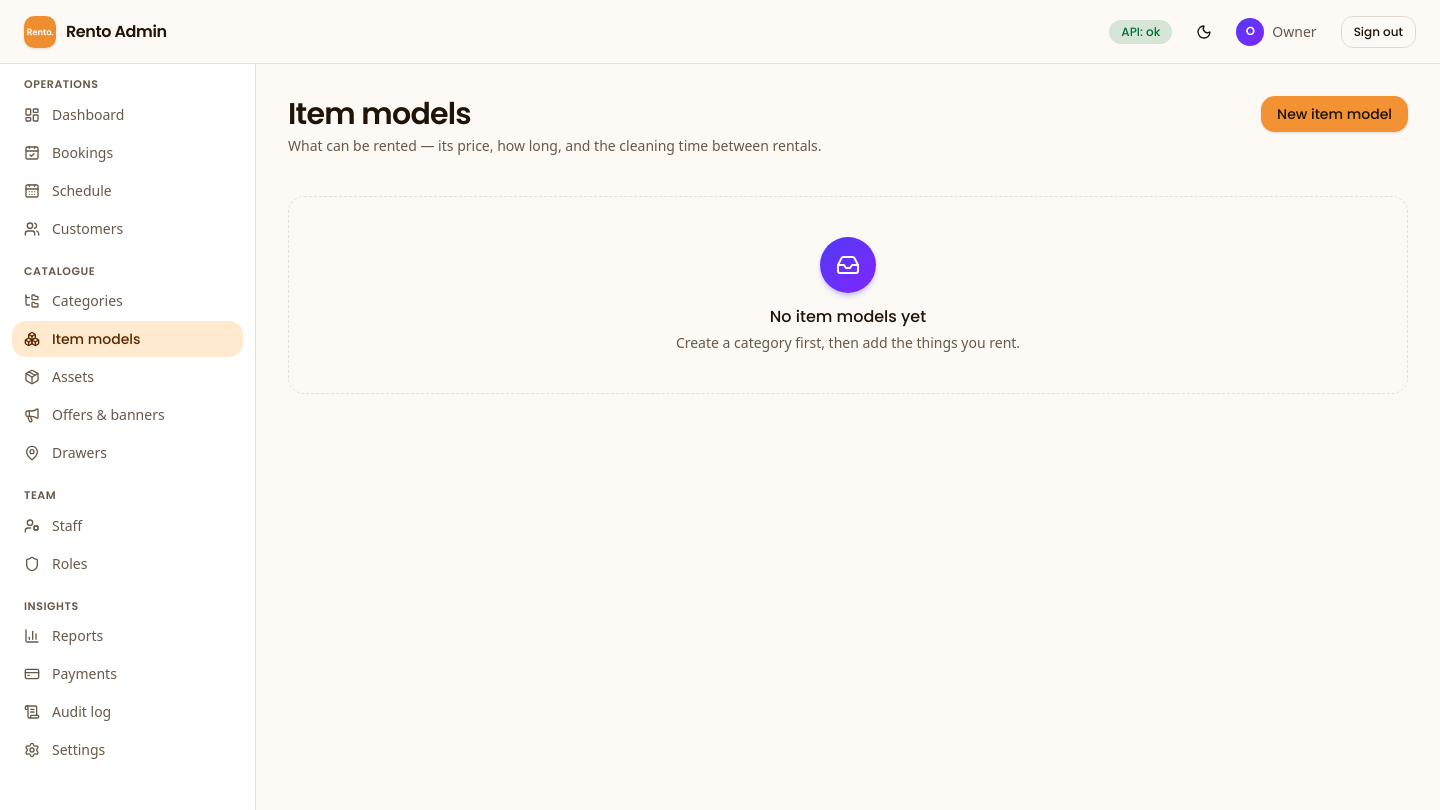
offers on products (item models page) › O-06 a percent of "0" is refused on the field and nothing is sent
Click the button "New item model" at {"x": 1334, "y": 114}, box [1261, 96, 1408, 132]
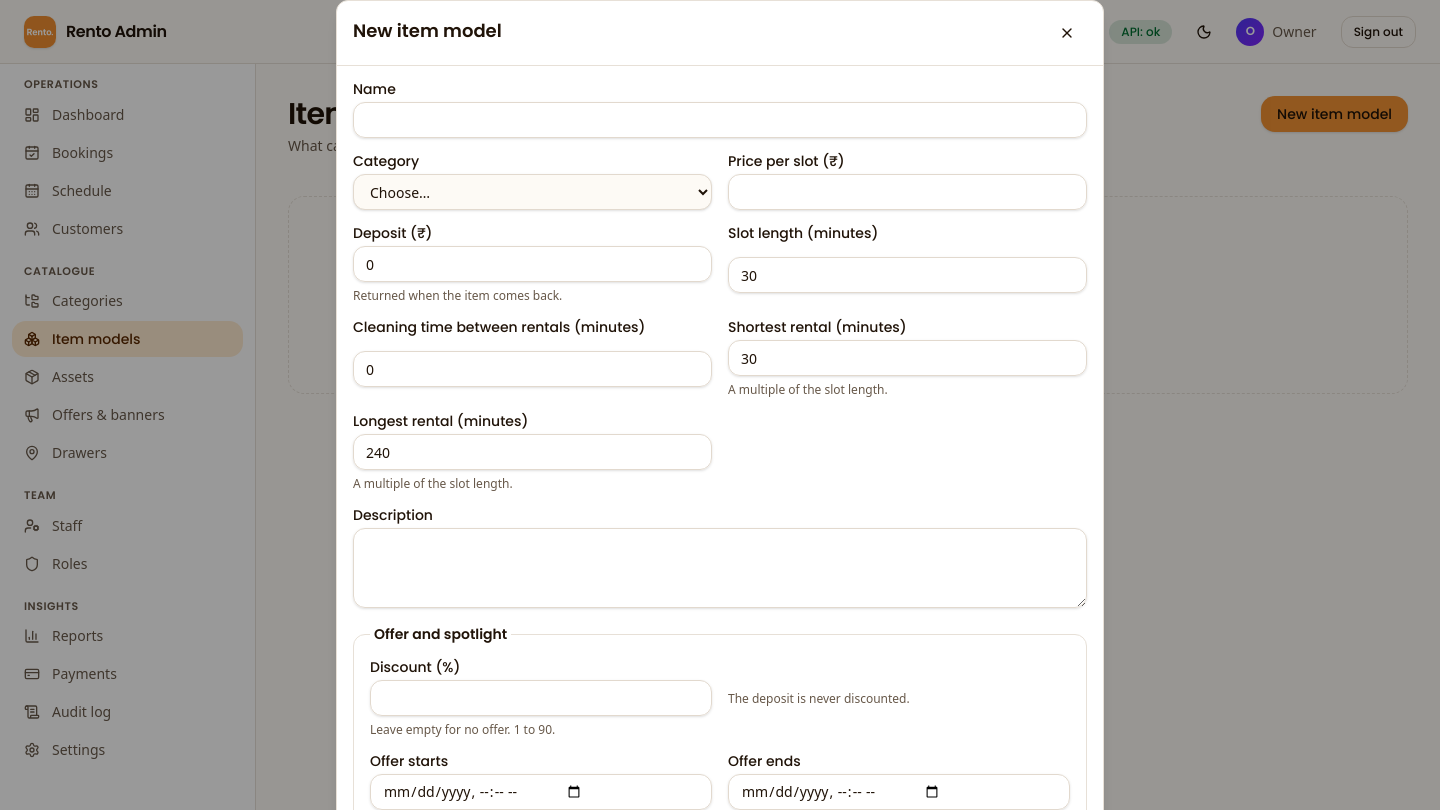
Type "X" into the field labelled "Name" at {"x": 720, "y": 120}, box [353, 102, 1087, 138]
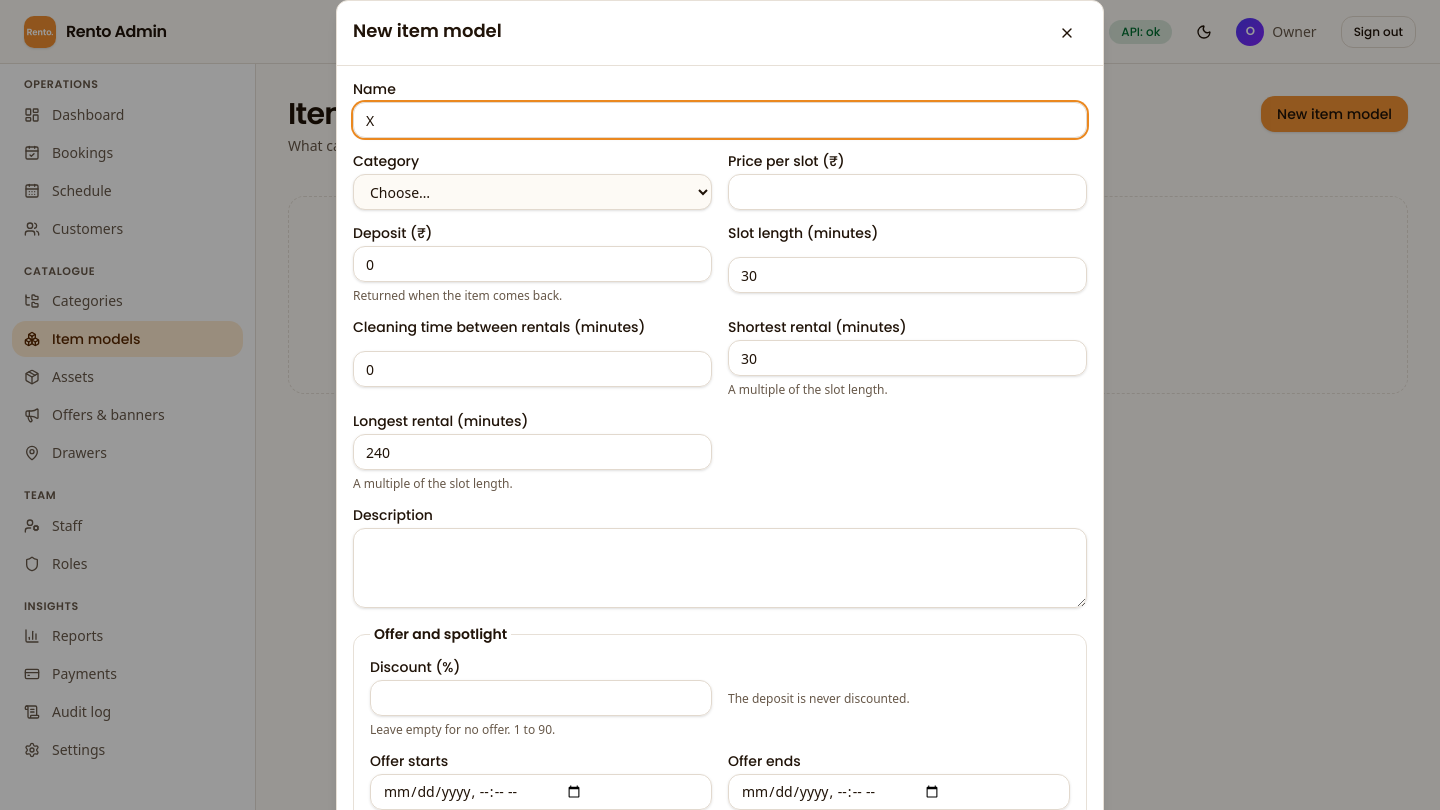
Select "Game consoles" in the dropdown labelled "Category" at {"x": 532, "y": 192}, box [353, 174, 712, 210]
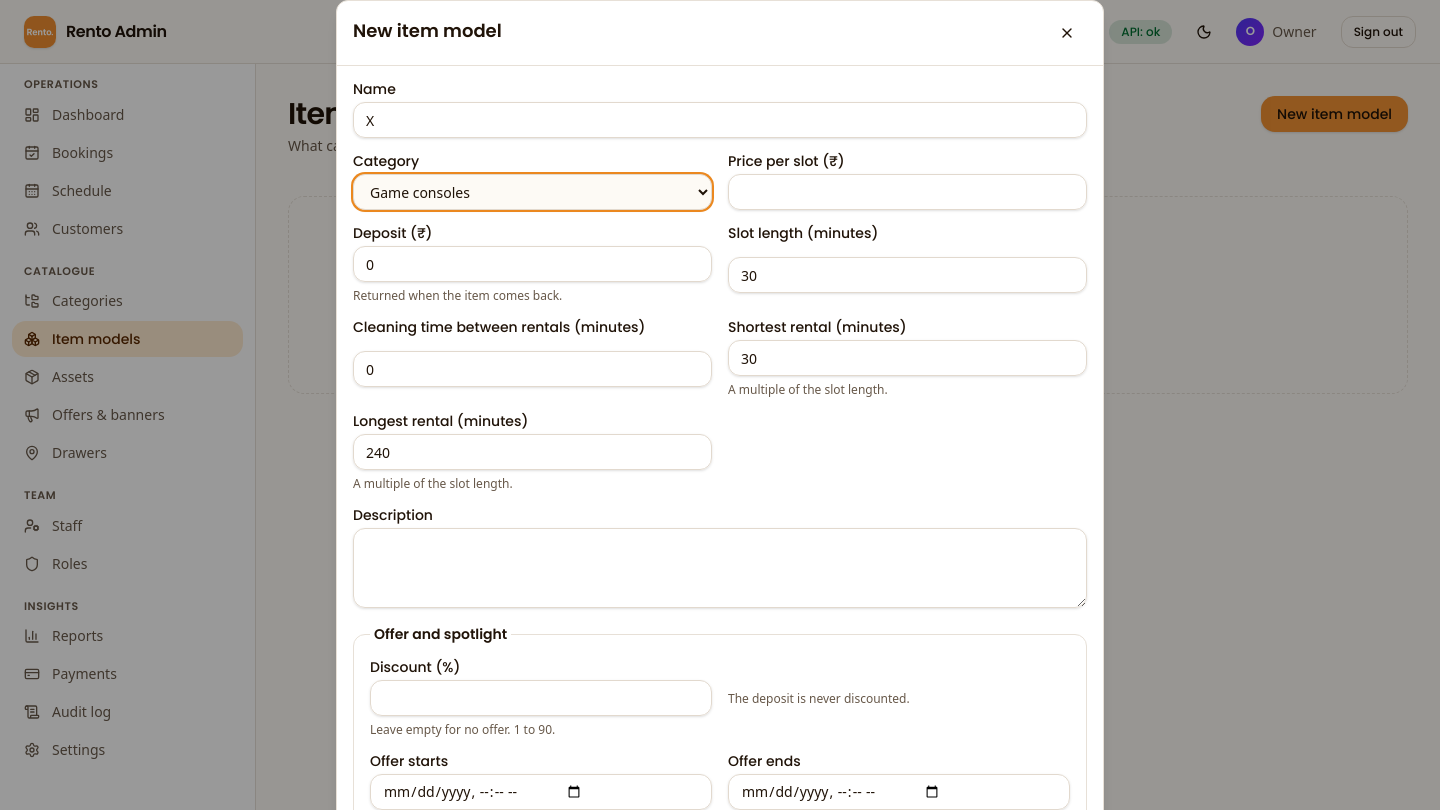
Type "10" into the field labelled "Price per slot (₹)" at {"x": 908, "y": 192}, box [728, 174, 1087, 210]
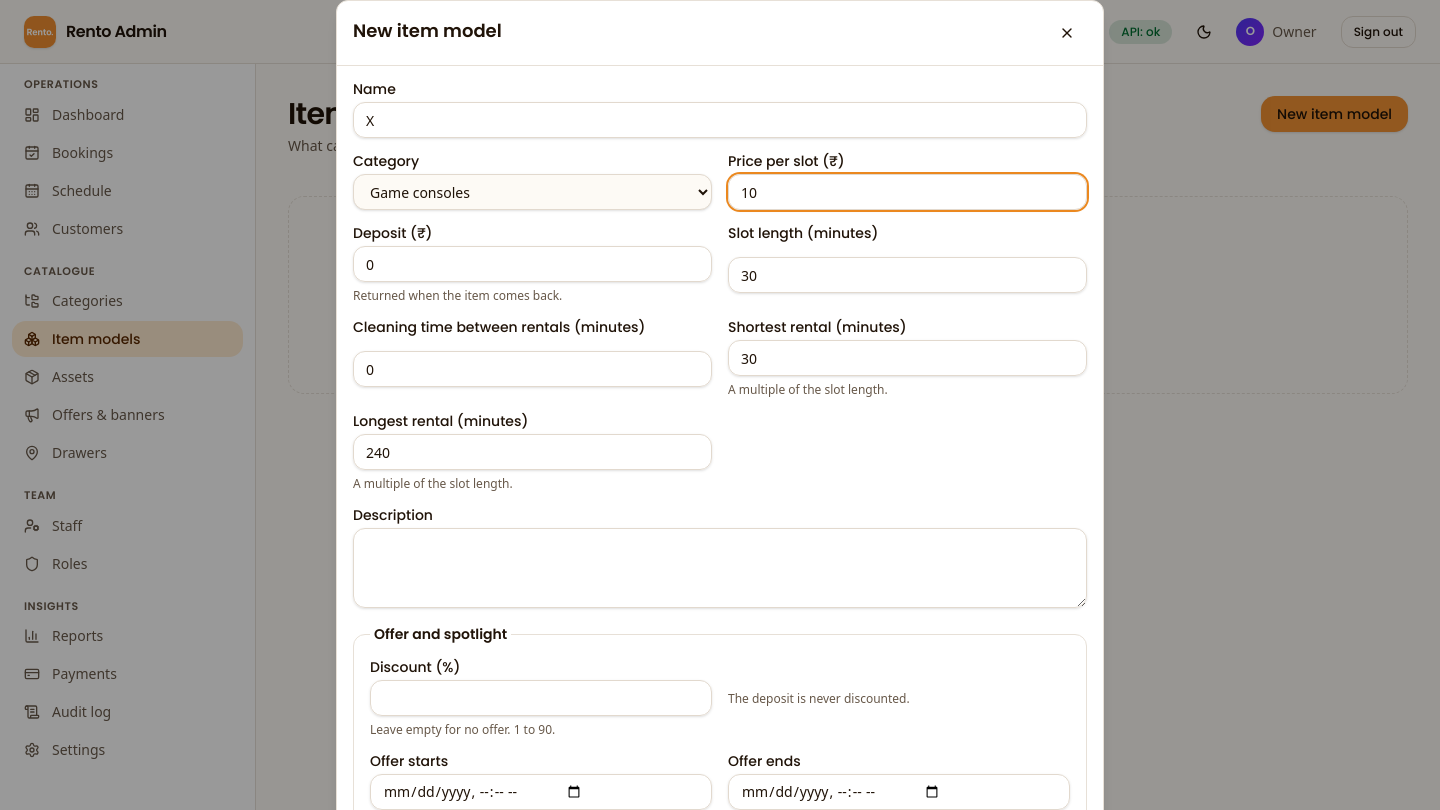
Type "0" into the field labelled "Discount (%)" at {"x": 541, "y": 698}, box [370, 680, 712, 716]
(page scrolled)
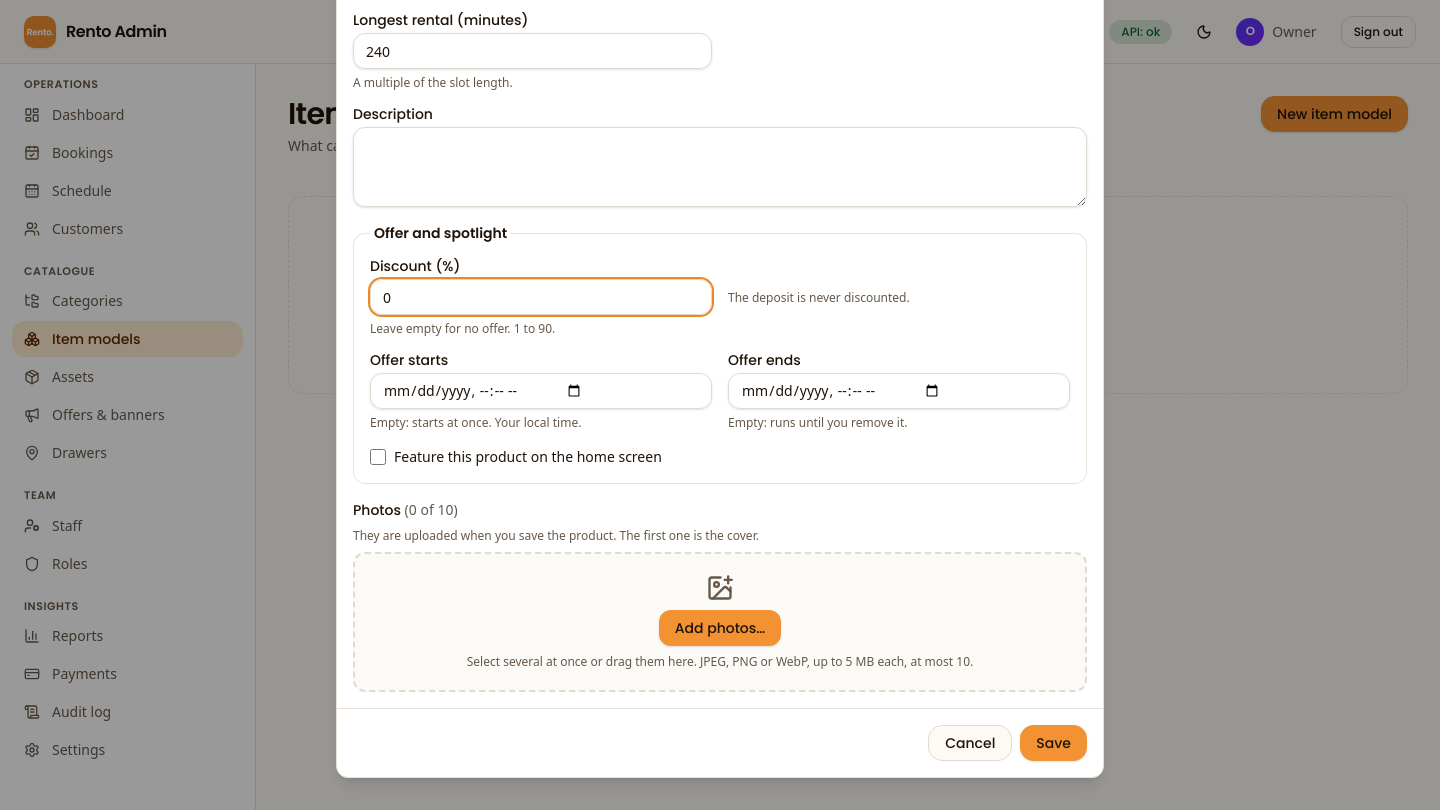
Click the button "Save" at {"x": 1054, "y": 743}, box [1020, 725, 1087, 761]
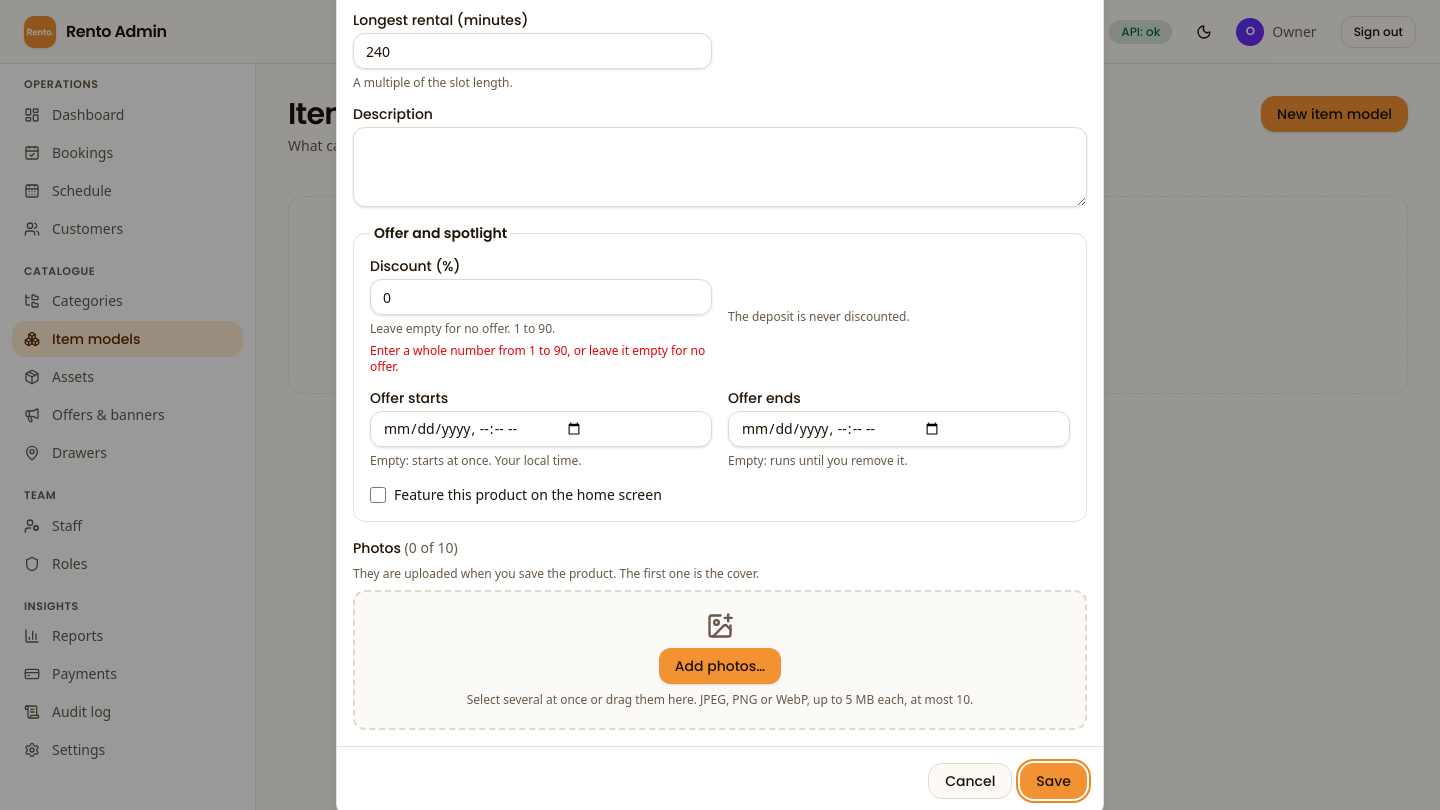
Result: the text "Enter a whole number from 1 to 90, or leave it empty for no offer." is shown at [370, 343, 712, 375]
